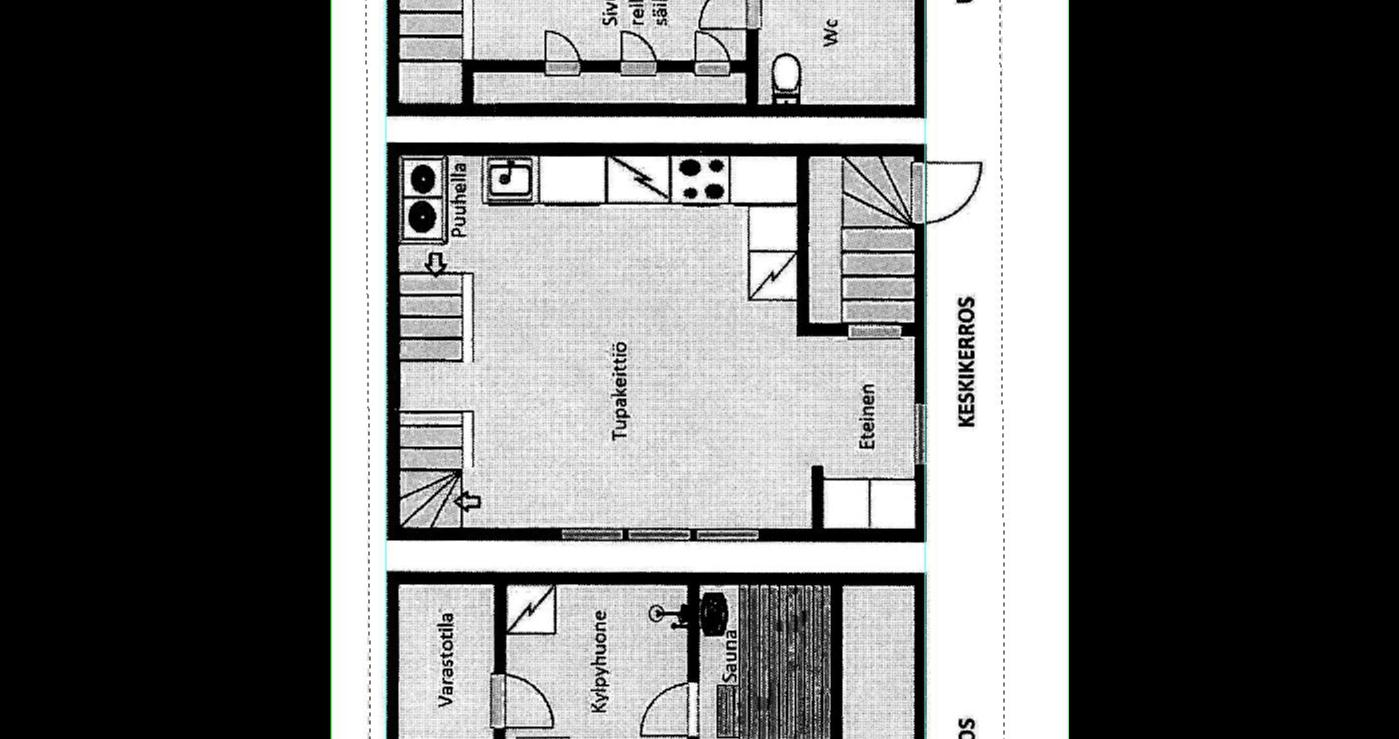door: (906, 156, 984, 228), (485, 670, 556, 734), (636, 676, 703, 738), (697, 0, 765, 36), (615, 28, 659, 80), (690, 30, 735, 80), (542, 28, 583, 80)
window: (622, 522, 692, 546), (557, 522, 626, 546), (689, 522, 764, 544), (911, 398, 929, 468)
